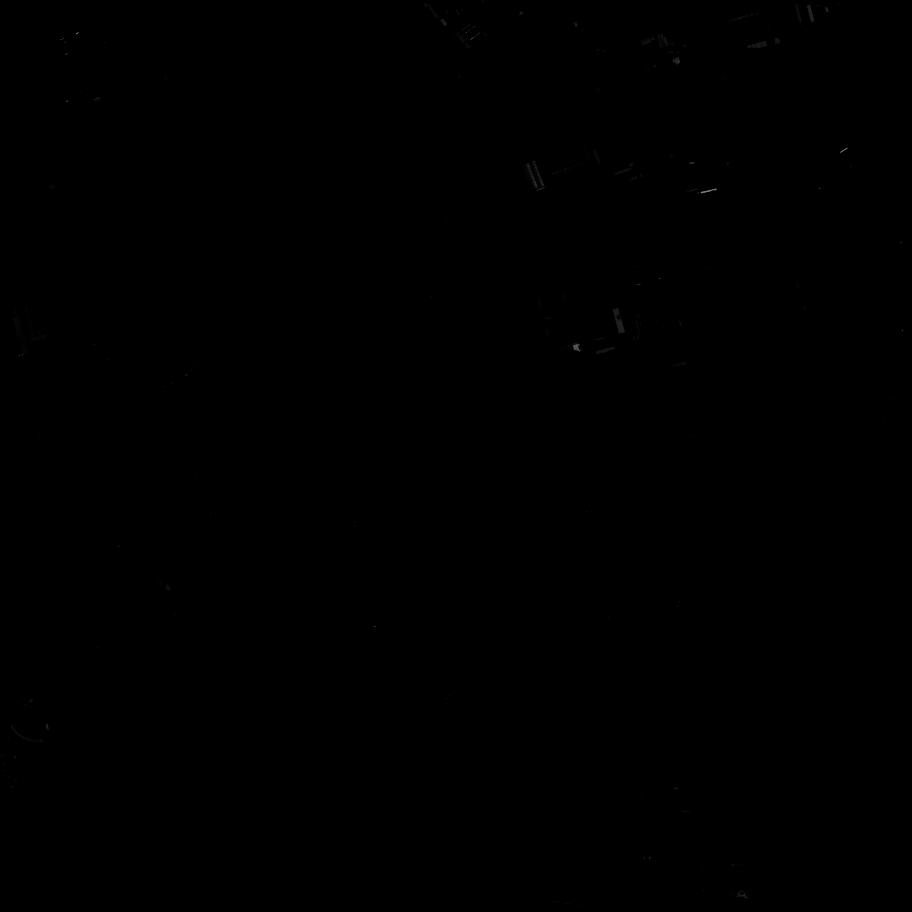ship: (703, 323, 708, 334), (704, 333, 708, 343), (700, 320, 702, 331)
